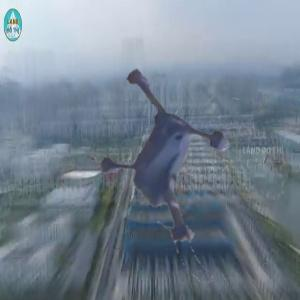drone: (82, 81, 277, 276)
